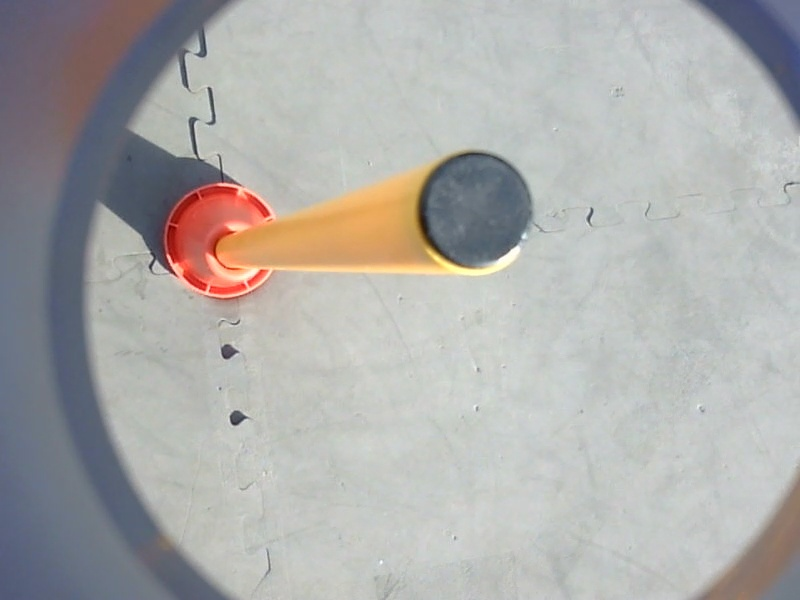tip: (404, 144, 542, 279)
